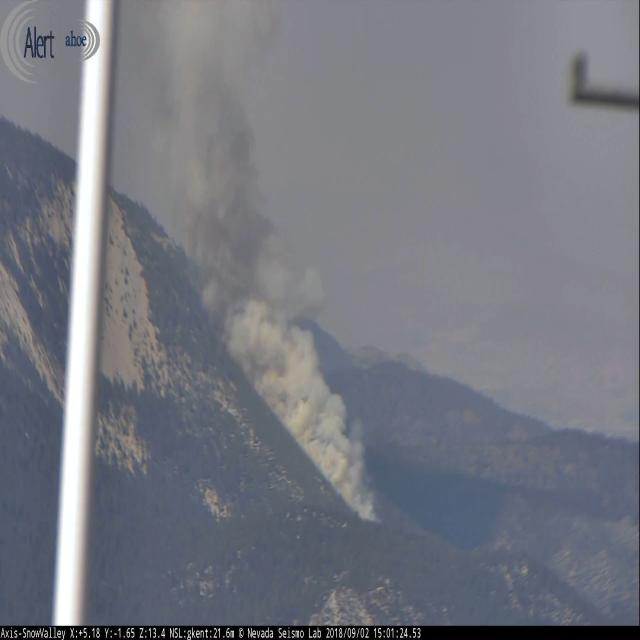smoke: (118, 0, 381, 533)
